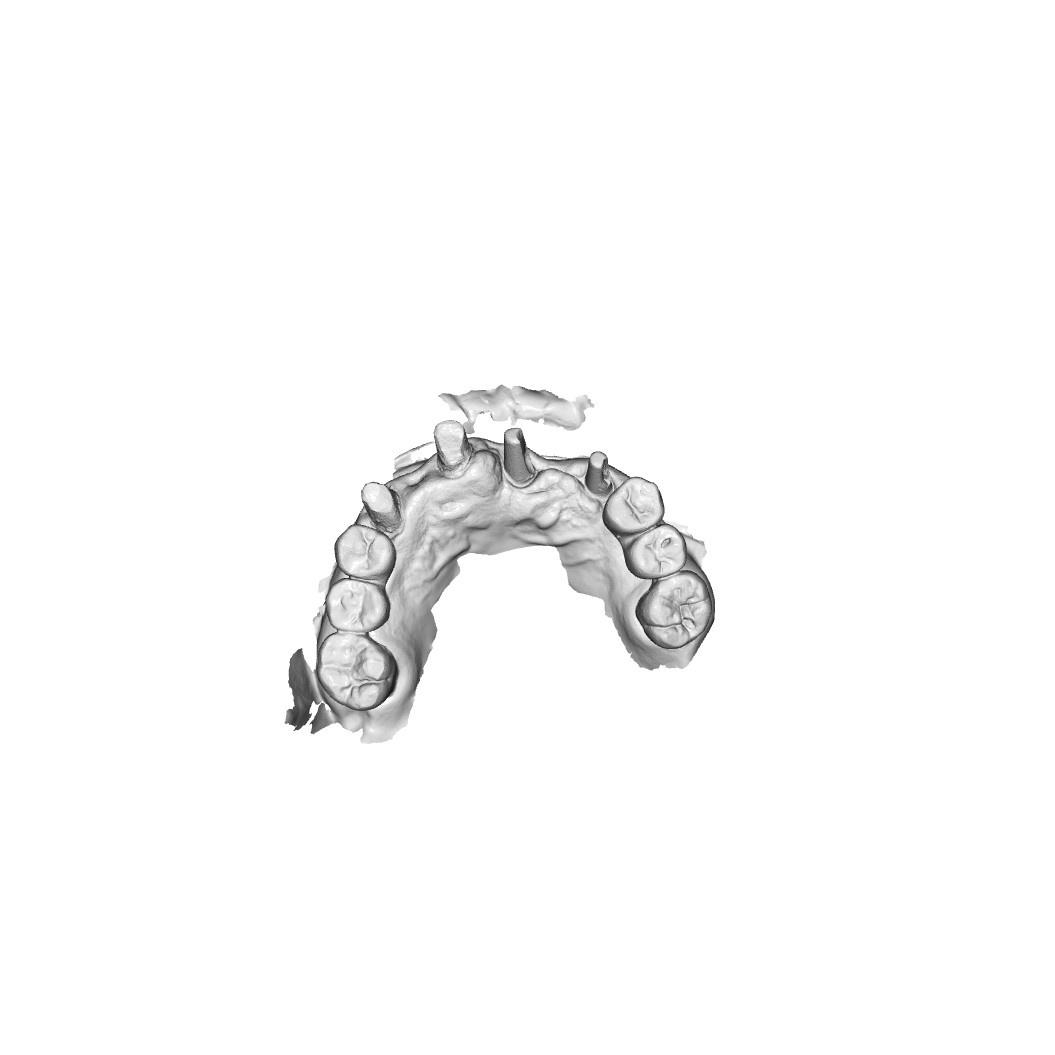abutment: (493, 420, 542, 506), (581, 446, 615, 503)
crown: (426, 416, 469, 477)
implant_plus: (356, 471, 410, 533)
molar: (312, 633, 400, 711), (637, 568, 717, 651)
premolar: (602, 473, 667, 536), (331, 522, 397, 581), (626, 522, 689, 581), (328, 578, 390, 633)
